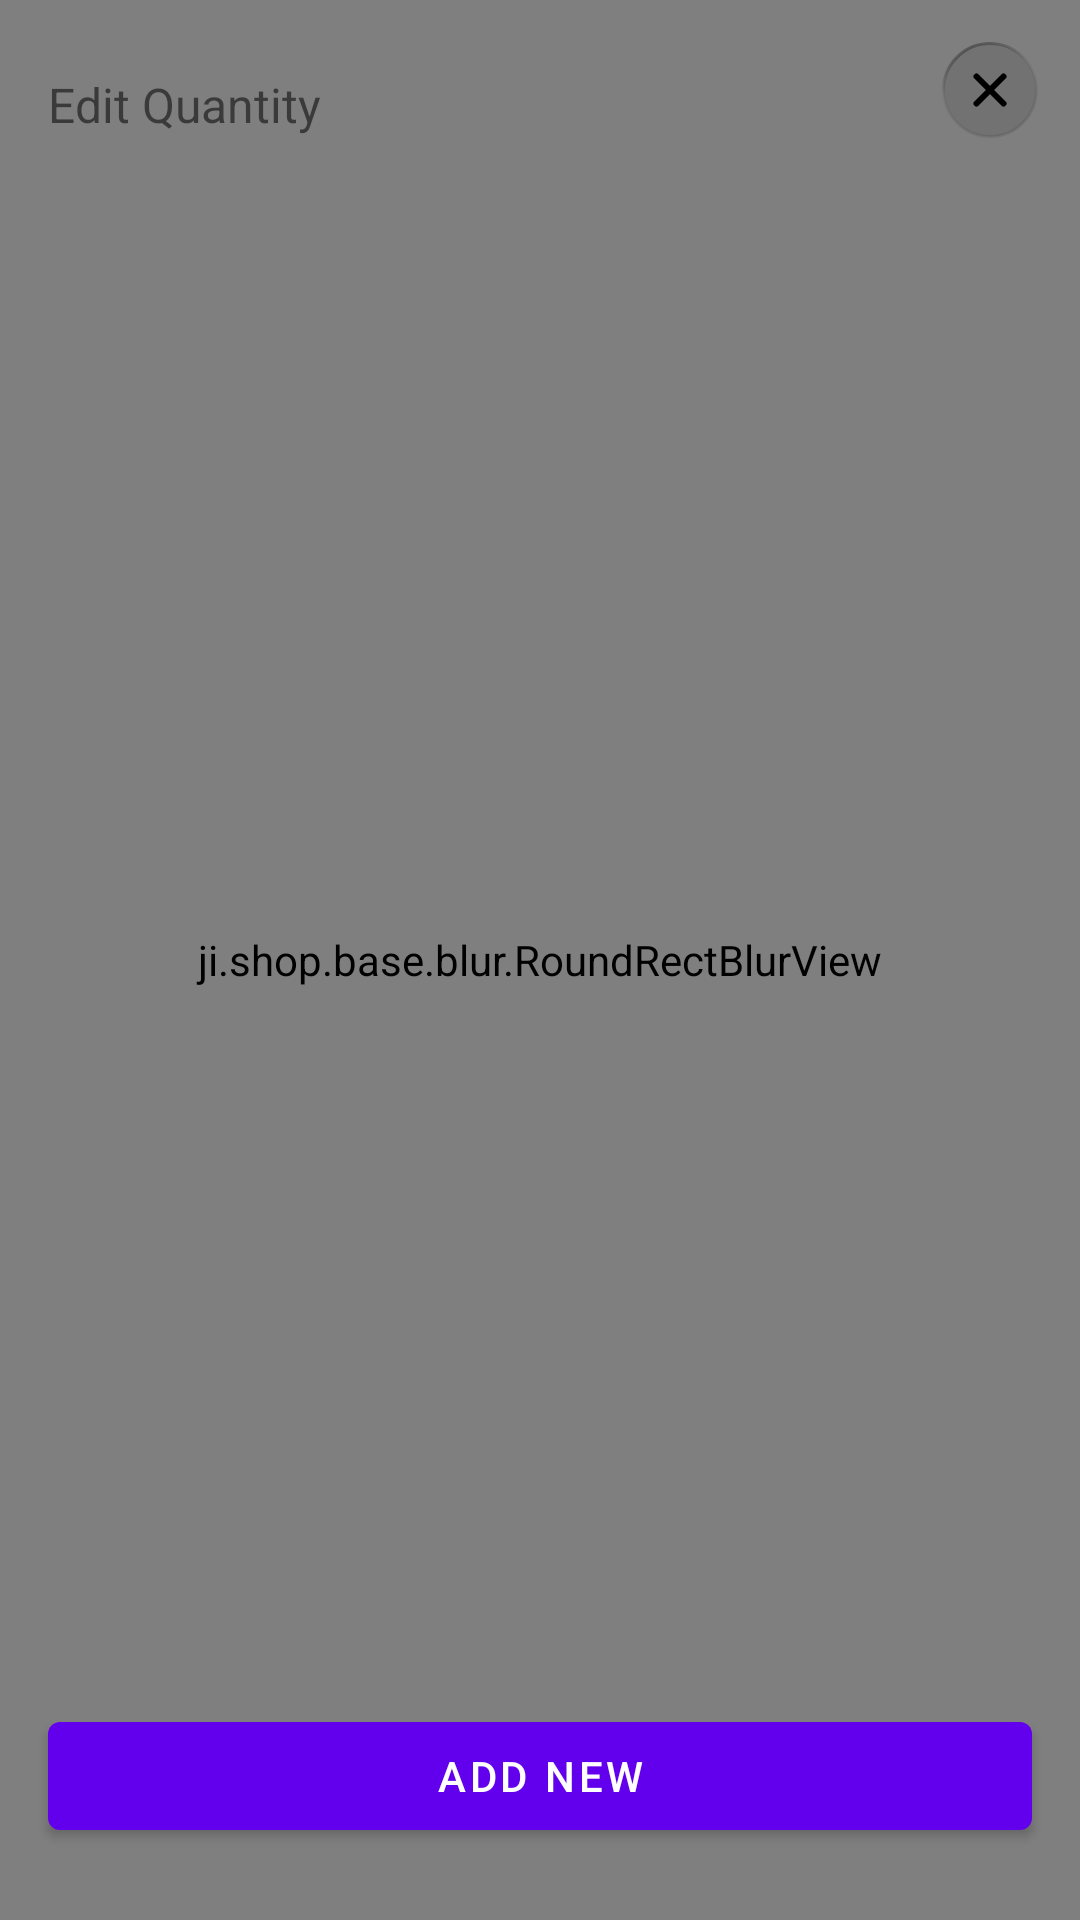

Where to tap for icons on this 1080x1920 app screen, as [x,y]:
close: [989,90]
